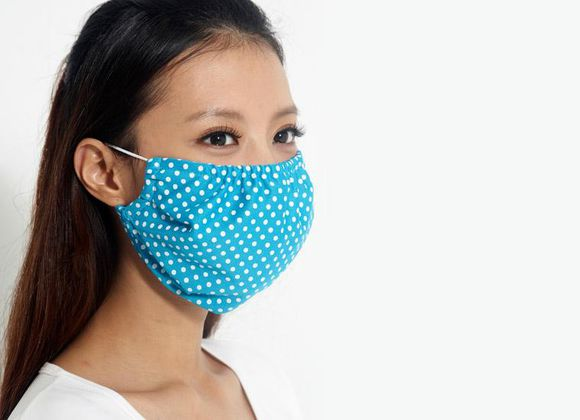face_mask: (123, 44, 311, 307)
